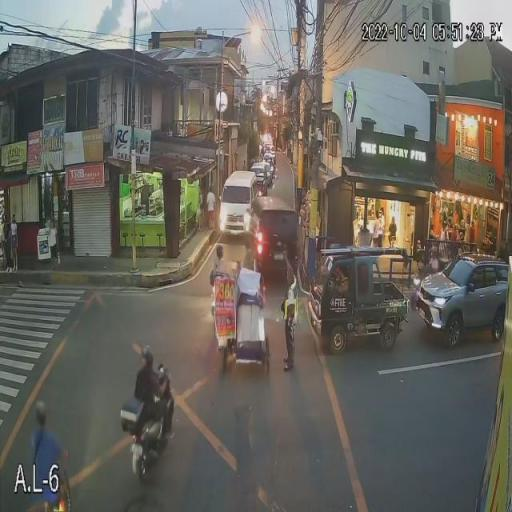helmet: (139, 348, 156, 367)
motorcycle: (115, 400, 188, 481)
rider: (134, 367, 177, 440)
